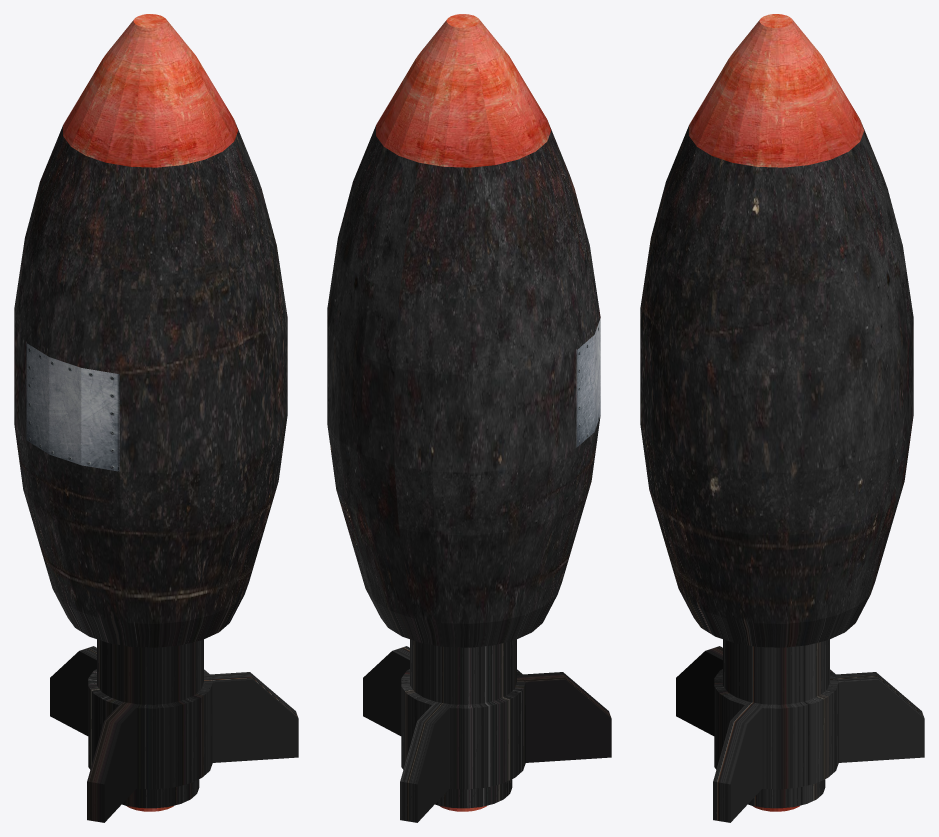
File: cohete.fbx
3 views of the same model, side by side, from view 1: azimuth 30°, elevation 25°; view 2: azimuth 150°, elevation 25°; view 3: azimuth 270°, elevation 25° (orthographic).
Parts seen in each view (by area): view 1: Cylinder; view 2: Cylinder; view 3: Cylinder.
Part boxes in pixels (bbox=[...]): Cylinder: bbox=[14, 14, 298, 822]; Cylinder: bbox=[327, 14, 611, 822]; Cylinder: bbox=[640, 14, 924, 822].
Bounding box in the file's own units: 58.46 × 180 × 59.6.
3 materials, 3 textured.
